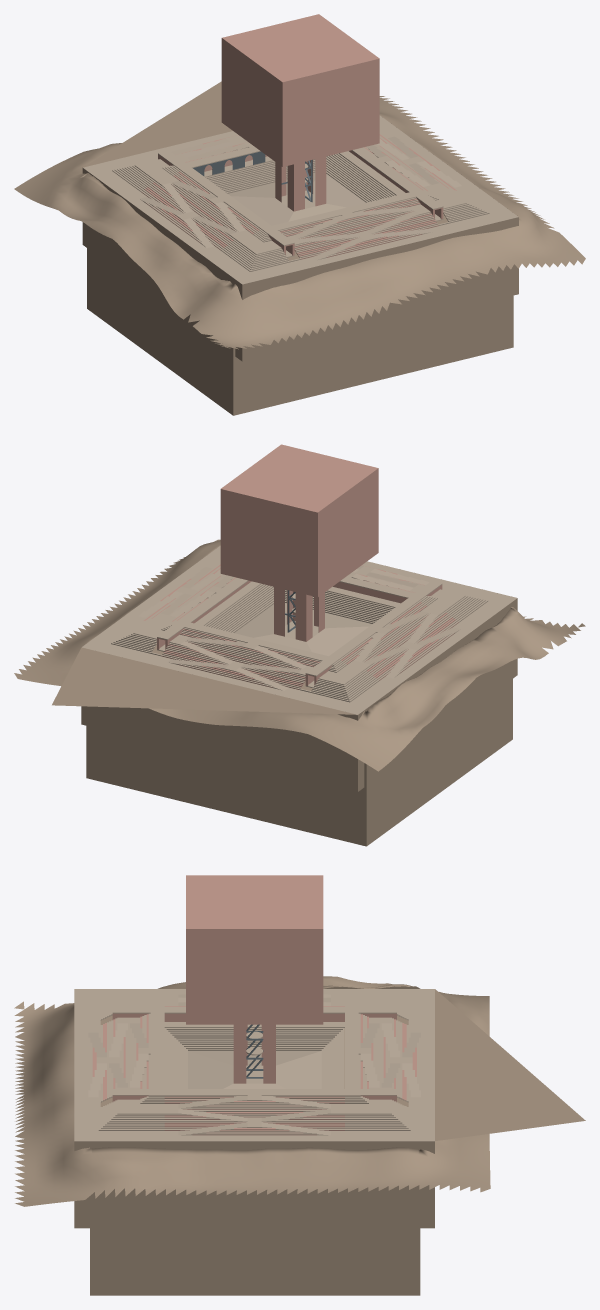
Rendered from museum-study-3.glb.
The picture shows the model from 3 angles, top to bottom: view 1: azimuth 30°, elevation 25°; view 2: azimuth 150°, elevation 25°; view 3: azimuth 270°, elevation 25°; orthographic projection. The views are drawn at different scales.
Visible parts, largest first — view 1: Landscape, Stone, Warm plaster, Metal; view 2: Landscape, Stone, Warm plaster; view 3: Landscape, Stone, Warm plaster.
Part boxes in pixels (x1,y1,x2,y2): Landscape: (14,81,585,415); Stone: (83,115,518,284); Warm plaster: (141,14,456,259); Metal: (193,151,312,202); Landscape: (14,539,585,846); Stone: (82,546,517,715); Warm plaster: (143,444,458,689); Landscape: (14,976,585,1295); Stone: (74,989,434,1141); Warm plaster: (92,875,416,1135).
Bounding box in the file's own units: 69.54 × 50.33 × 82.5.
